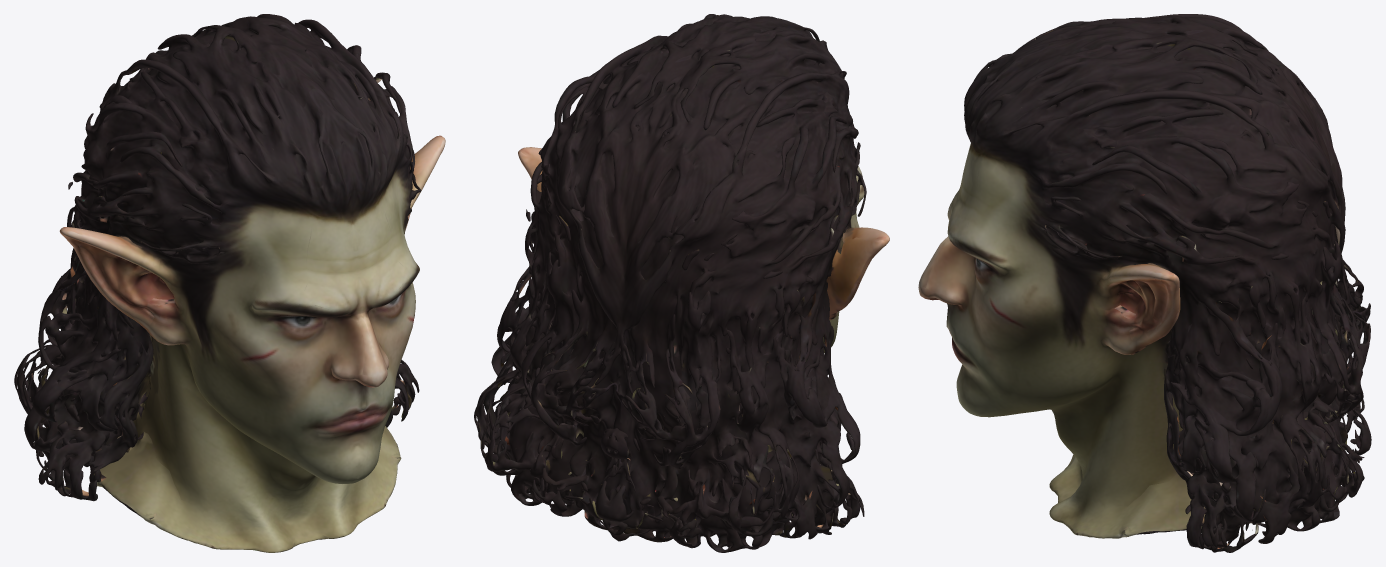
File: head-raw.glb
The picture shows the model from 3 angles, left to right: view 1: azimuth 30°, elevation 25°; view 2: azimuth 150°, elevation 25°; view 3: azimuth 270°, elevation 25°; orthographic projection. The views are drawn at different scales.
Parts seen in each view (by area): view 1: Druk_Natural_Proportions_Matched_Eyes; view 2: Druk_Natural_Proportions_Matched_Eyes; view 3: Druk_Natural_Proportions_Matched_Eyes.
Boxes of the visible parts, x1,y1,x2,y2 form: Druk_Natural_Proportions_Matched_Eyes: [14, 14, 445, 552]; Druk_Natural_Proportions_Matched_Eyes: [474, 14, 889, 552]; Druk_Natural_Proportions_Matched_Eyes: [918, 14, 1371, 552].
Bounding box in the file's own units: 1.7 × 1.99 × 1.74.
1 material, 1 textured.
